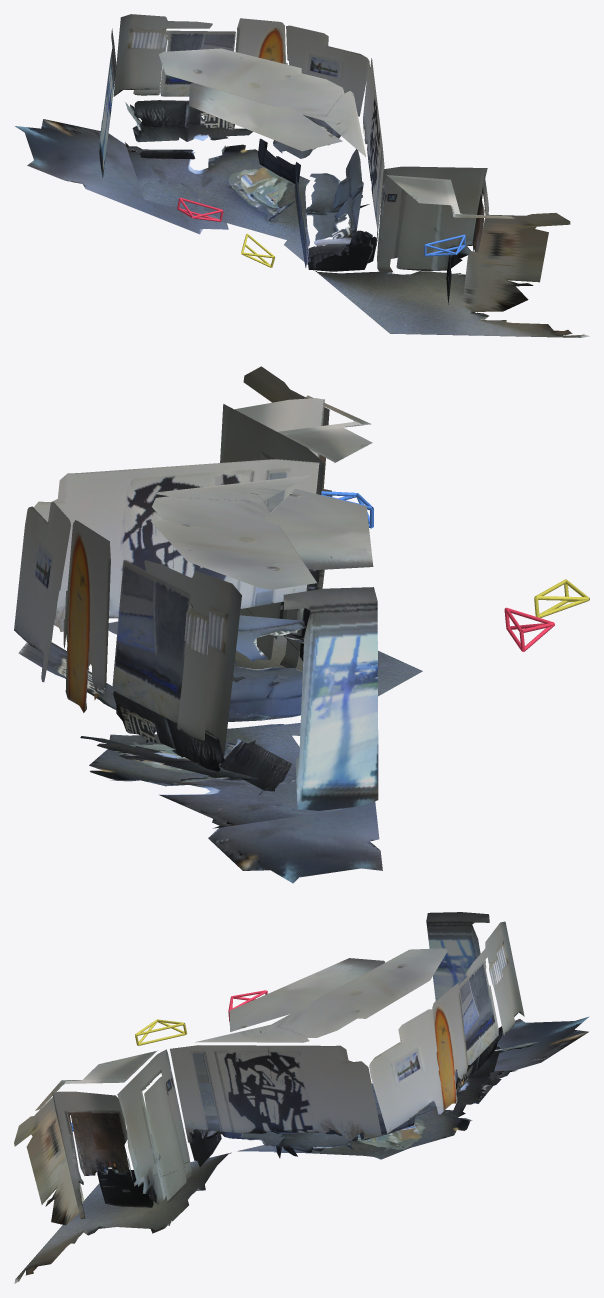
3 views of the same model, one above another, from view 1: azimuth 30°, elevation 25°; view 2: azimuth 150°, elevation 25°; view 3: azimuth 270°, elevation 25° (orthographic). The views are drawn at different scales.
Parts seen in each view (by area): view 1: Node; view 2: Node; view 3: Node.
Part boxes in pixels (x1=…): Node: x1=15, y1=14, x2=589, y2=337; Node: x1=14, y1=366, x2=589, y2=883; Node: x1=14, y1=912, x2=588, y2=1283.
Bounding box in the file's own units: 6.77 × 4.23 × 9.35.
40 materials, 37 textured.
